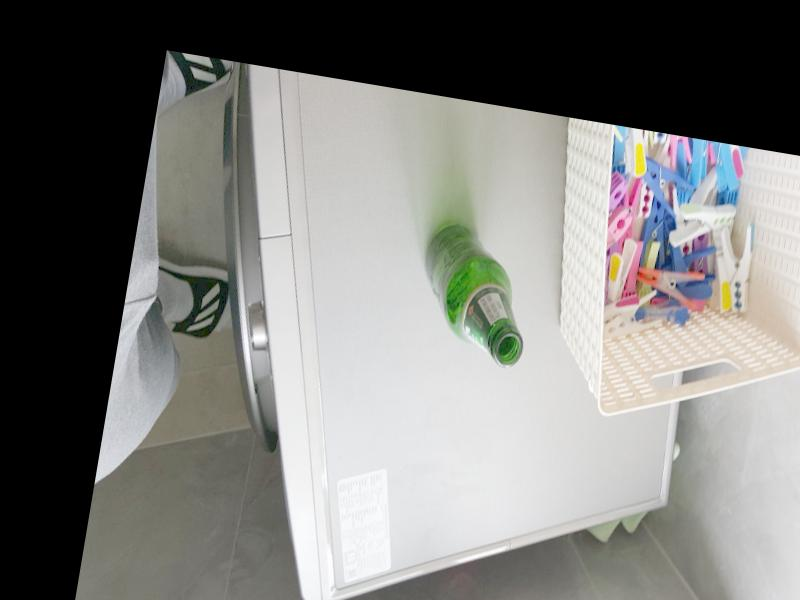Beer: (408, 221, 539, 370)
